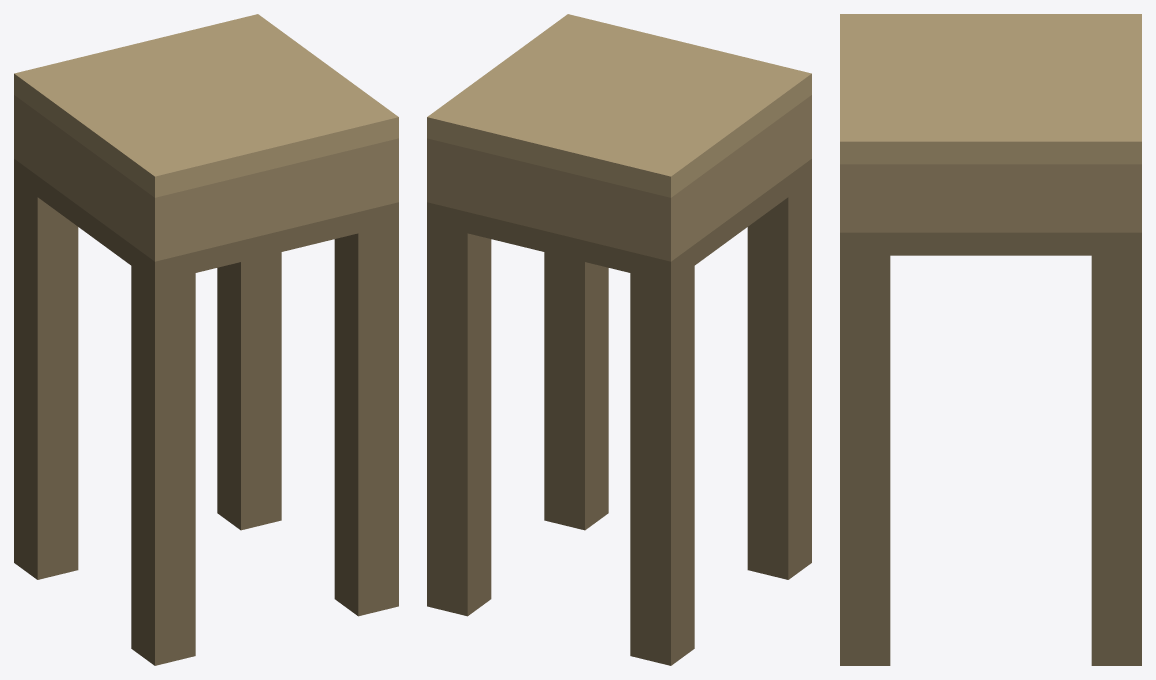
Rendered from especiero_01.glb.
The picture shows the model from 3 angles, left to right: view 1: azimuth 30°, elevation 25°; view 2: azimuth 150°, elevation 25°; view 3: azimuth 270°, elevation 25°; orthographic projection. The views are drawn at different scales.
Visible parts, largest first — view 1: especiero; view 2: especiero; view 3: especiero.
Boxes of the visible parts, left/top/right/bottom form: especiero: left=14, top=14, right=398, bottom=665; especiero: left=427, top=14, right=811, bottom=665; especiero: left=840, top=14, right=1141, bottom=665.
Bounding box in the file's own units: 1 × 1.92 × 1.
